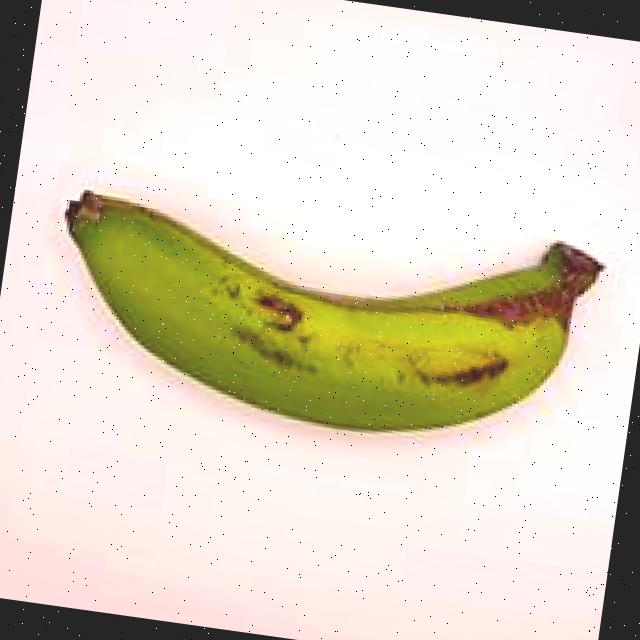Raw: (22, 134, 637, 498)
